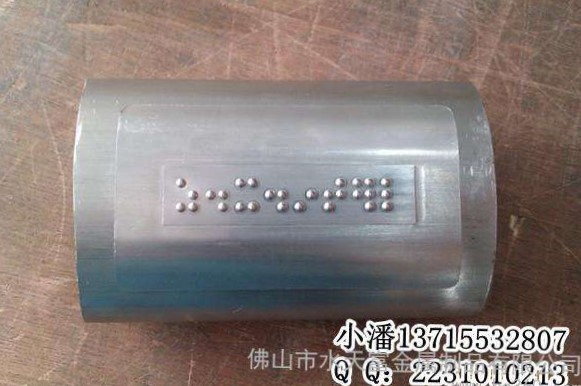Braille: (293, 177, 319, 215), (351, 176, 377, 213), (234, 177, 260, 213), (380, 176, 406, 212), (264, 177, 289, 214), (205, 177, 229, 214), (323, 177, 347, 213), (176, 177, 199, 213)
